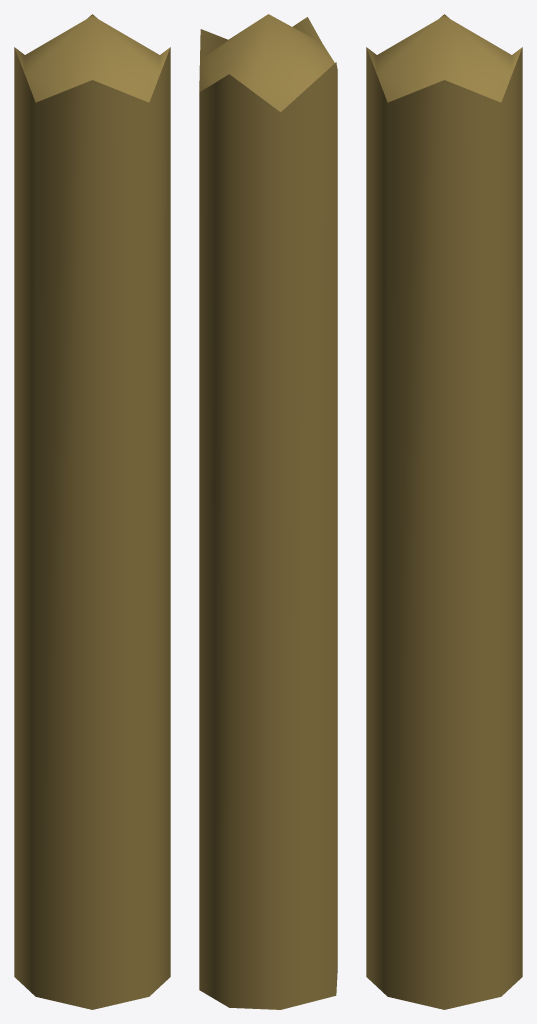
File: Baby_Apple_Tree.fbx
The picture shows the model from 3 angles, left to right: view 1: azimuth 90°, elevation 25°; view 2: azimuth 150°, elevation 25°; view 3: azimuth 270°, elevation 25°; orthographic projection.
Visible parts, largest first — view 1: pCube4; view 2: pCube4; view 3: pCube4.
Part boxes in pixels (x1,y1,x2,y2): pCube4: [14, 14, 170, 1009]; pCube4: [199, 14, 337, 1009]; pCube4: [366, 14, 522, 1009].
Size of the model in its own units: 1 by 6.79 by 1.
